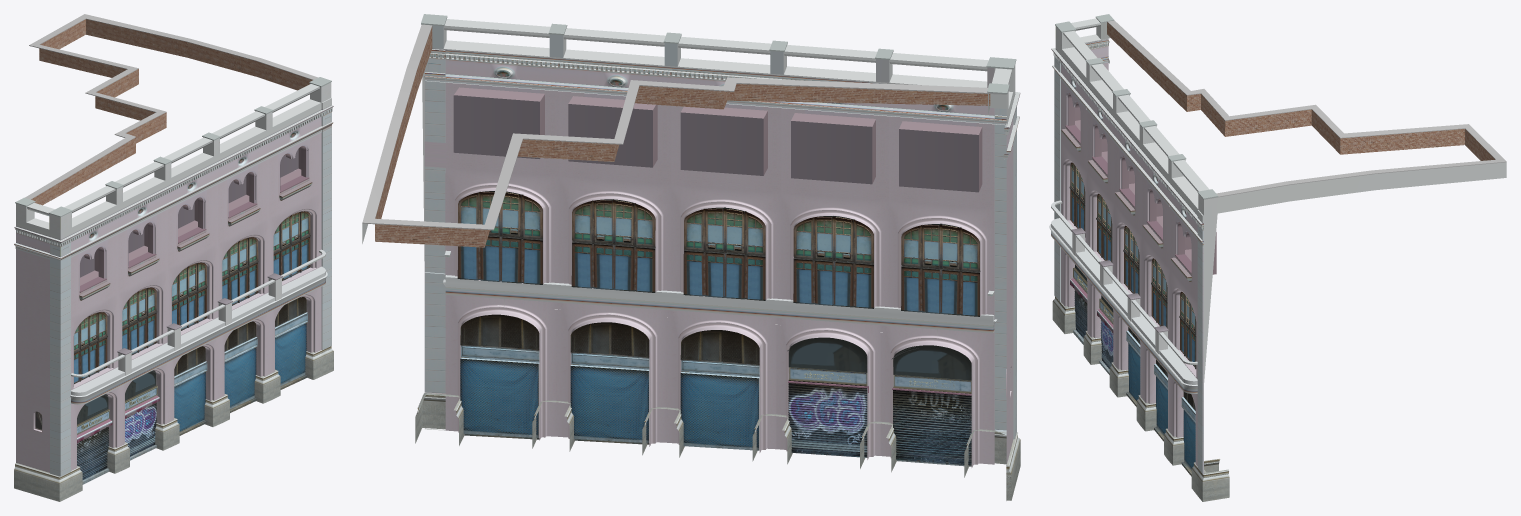
Rendered from noucremat.fbx.
3 renders of one model, left to right at view 1: azimuth 30°, elevation 25°; view 2: azimuth 150°, elevation 25°; view 3: azimuth 270°, elevation 25°, orthographic. The views are drawn at different scales.
Visible parts, largest first — view 1: polySurface427, polySurface476, polySurface440, polySurface437, polySurface428, polySurface434, polySurface431, polySurface443, polySurface449, polySurface451, polySurface453, polySurface452 (+18 smaller); view 2: polySurface476, polySurface427, polySurface431, polySurface428, polySurface434, polySurface440, polySurface437, polySurface451, polySurface443, polySurface453, polySurface449, polySurface486 (+9 smaller); view 3: polySurface427, polySurface476, polySurface440, polySurface434, polySurface437, polySurface431, polySurface428, polySurface443, polySurface449, polySurface479, polySurface451, polySurface453 (+7 smaller).
Boxes of the visible parts, <box> form: polySurface427: <box>15,14,331,476</box>; polySurface476: <box>170,266,321,431</box>; polySurface440: <box>269,122,333,285</box>; polySurface437: <box>218,152,271,316</box>; polySurface428: <box>14,228,120,389</box>; polySurface434: <box>167,178,220,334</box>; polySurface431: <box>118,203,169,359</box>; polySurface443: <box>70,266,327,404</box>; polySurface449: <box>64,84,319,212</box>; polySurface451: <box>71,366,122,470</box>; polySurface453: <box>122,342,169,445</box>; polySurface452: <box>14,463,82,501</box>; polySurface476: <box>445,274,776,452</box>; polySurface427: <box>362,14,1016,464</box>; polySurface431: <box>781,101,889,308</box>; polySurface428: <box>889,108,1019,316</box>; polySurface434: <box>671,100,781,300</box>; polySurface440: <box>424,72,560,284</box>; polySurface437: <box>559,83,671,292</box>; polySurface451: <box>880,305,994,467</box>; polySurface443: <box>443,275,996,333</box>; polySurface453: <box>776,298,880,459</box>; polySurface449: <box>444,19,988,71</box>; polySurface486: <box>788,380,867,457</box>; polySurface427: <box>1054,14,1506,474</box>; polySurface476: <box>1115,312,1197,476</box>; polySurface440: <box>1167,201,1216,378</box>; polySurface434: <box>1111,135,1141,307</box>; polySurface437: <box>1139,168,1169,339</box>; polySurface431: <box>1084,104,1114,274</box>; polySurface428: <box>1052,58,1109,243</box>; polySurface443: <box>1049,218,1197,393</box>; polySurface449: <box>1063,31,1209,191</box>; polySurface479: <box>1191,459,1229,501</box>; polySurface451: <box>1061,248,1089,334</box>; polySurface453: <box>1089,281,1115,366</box>.
Bounding box in the file's own units: 2164 × 1639 × 2246.
